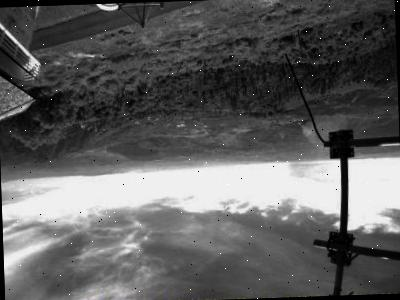smoke: (286, 118, 337, 194)
